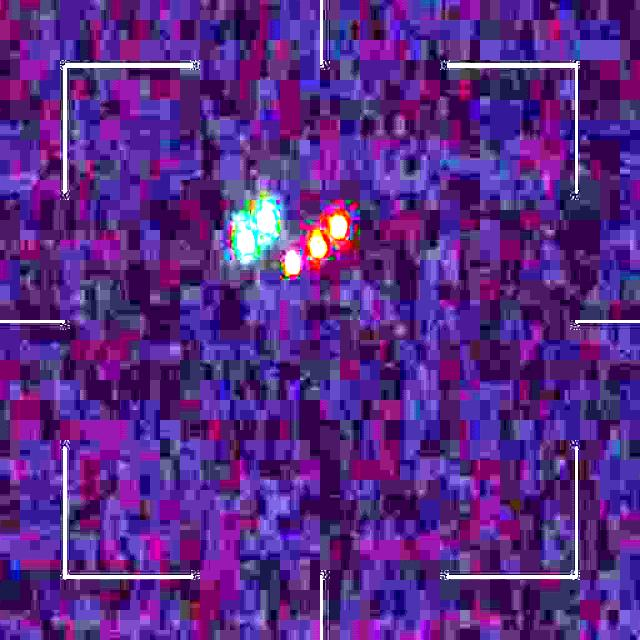bird: (236, 208, 349, 279)
